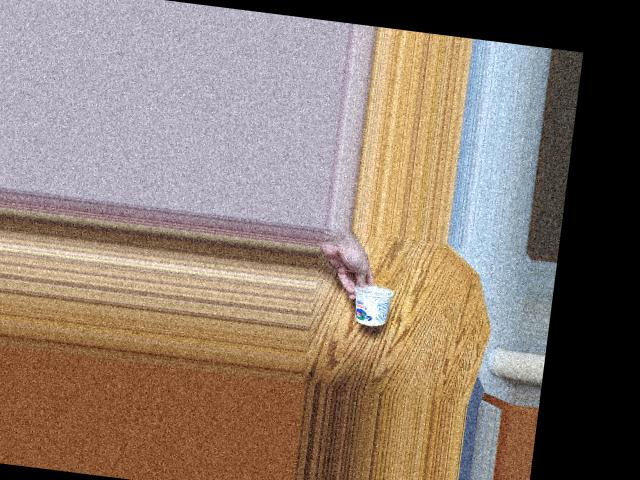cotage: (352, 280, 403, 333)
